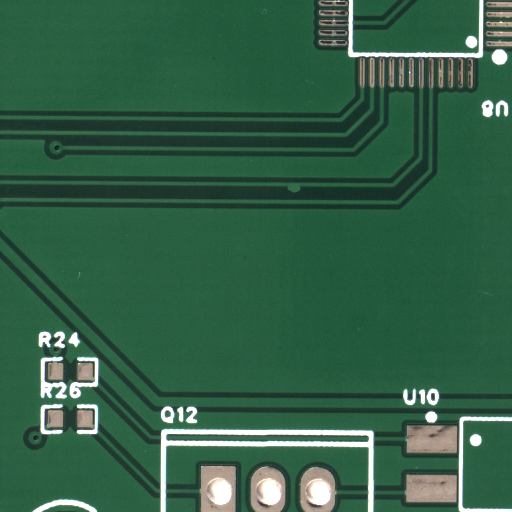Spur: (294, 187, 309, 196)
